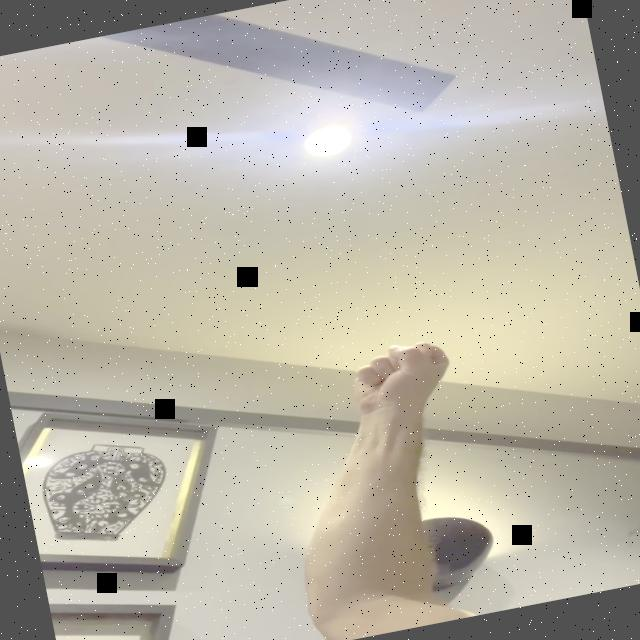Rock: (339, 333, 460, 420)
